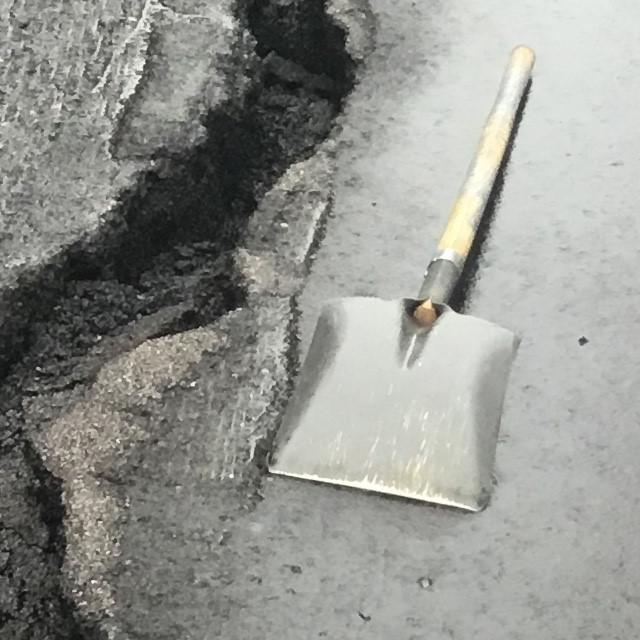retak_memanjang: (0, 0, 446, 640)
